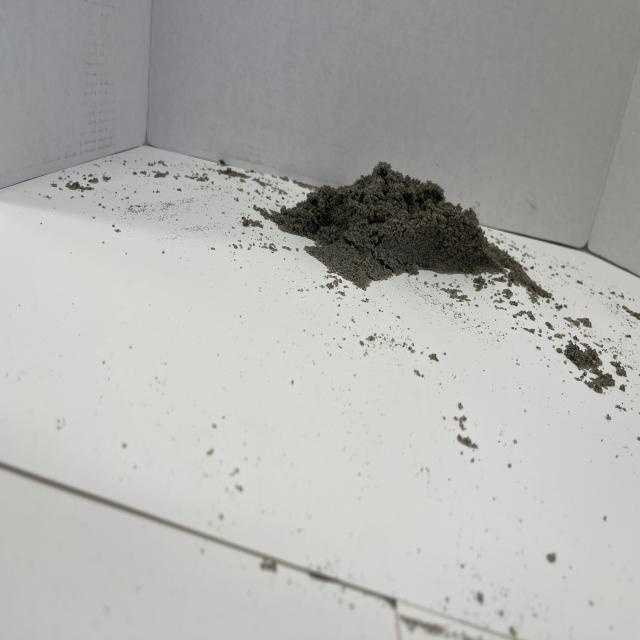sand: (257, 158, 546, 290)
